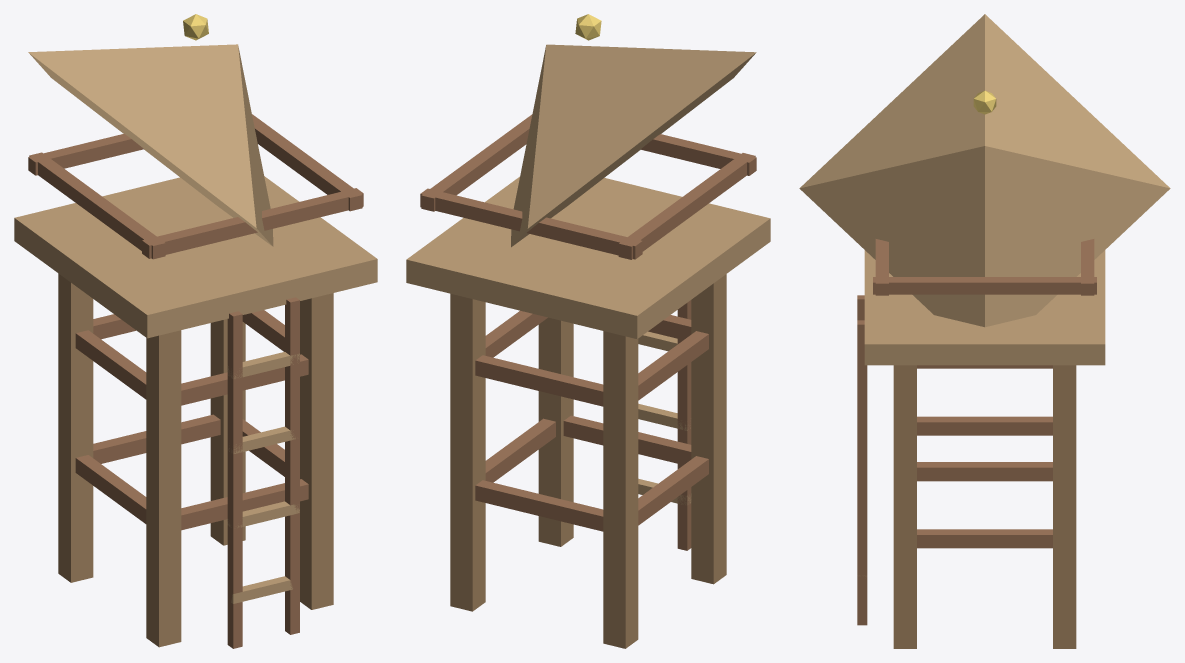
The model's file is watchtower.glb.
3 views of the same model, side by side, from view 1: azimuth 30°, elevation 25°; view 2: azimuth 150°, elevation 25°; view 3: azimuth 270°, elevation 25° (orthographic). The views are drawn at different scales.
Parts seen in each view (by area): view 1: platform, roof, leg, leg.002, leg.001, ladder_rail, ladder_rail.001, rail_y, leg.003, rail_x, rail_x.001, cross_brace.001 (+13 smaller); view 2: platform, roof, leg.001, leg.003, leg, leg.002, rail_y.001, rail_x, cross_brace.005, cross_brace.001, rail_x.001, ladder_rail (+10 smaller); view 3: roof, platform, leg.002, leg.003, rail_x.001, ladder_rail.001, cross_brace.002, cross_brace.003, cross_brace.007, rail_y, rail_y.001, cross_brace.006.
Boxes of the visible parts, x1,y1,x2,y2 form: platform: [14, 176, 377, 338]; roof: [28, 44, 273, 246]; leg: [146, 330, 181, 647]; leg.002: [300, 293, 333, 609]; leg.001: [58, 273, 93, 582]; ladder_rail: [227, 311, 242, 648]; ladder_rail.001: [285, 297, 299, 634]; rail_y: [142, 188, 363, 258]; leg.003: [210, 319, 245, 545]; rail_x: [29, 152, 165, 259]; rail_x.001: [252, 114, 362, 211]; cross_brace.001: [93, 414, 220, 463]; platform: [406, 176, 770, 338]; roof: [511, 44, 756, 247]; leg.001: [603, 331, 638, 648]; leg.003: [450, 293, 485, 611]; leg: [691, 274, 726, 584]; leg.002: [538, 317, 573, 546]; rail_y.001: [420, 188, 642, 259]; rail_x: [618, 153, 755, 259]; cross_brace.005: [475, 355, 603, 406]; cross_brace.001: [475, 480, 603, 531]; rail_x.001: [421, 114, 532, 211]; ladder_rail: [677, 300, 691, 550]; roof: [799, 14, 1170, 327]; platform: [864, 250, 1105, 365]; leg.002: [893, 365, 916, 648]; leg.003: [1053, 365, 1076, 648]; rail_x.001: [873, 277, 1096, 294]; ladder_rail.001: [857, 320, 867, 625]; cross_brace.002: [917, 462, 1052, 481]; cross_brace.003: [917, 529, 1052, 548]; cross_brace.007: [917, 416, 1052, 435]; rail_y: [875, 239, 888, 295]; rail_y.001: [1081, 239, 1094, 295]; cross_brace.006: [917, 365, 1052, 368].
Size of the model in its own units: 1.78 by 3.48 by 2.24.
